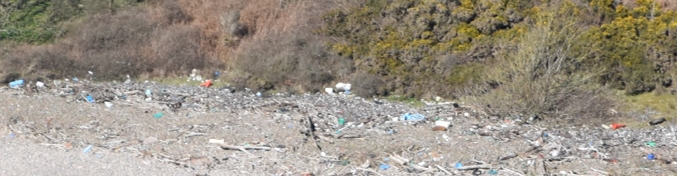together_barrel: (1, 63, 677, 176)
